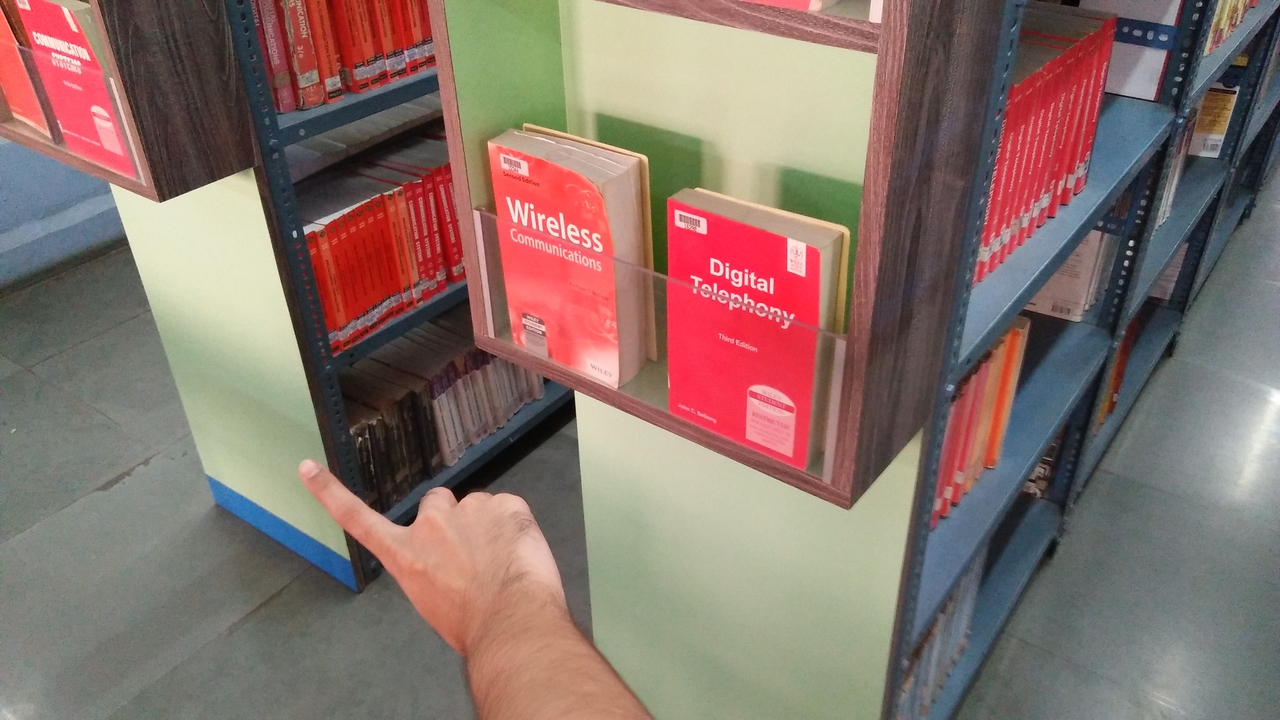fingertip: (278, 454, 336, 502)
